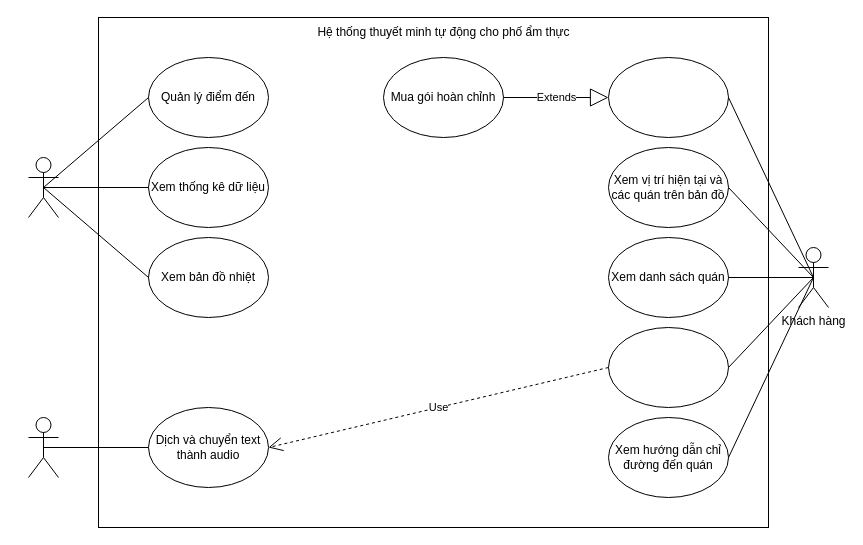
Image size: 863x545. Some labels were removed from this diagram. Each missing label, with the centre of its shape:
Admin: (x=43, y=187)
Gemini AI: (x=43, y=447)
Kích hoạt ứng dụng: (x=668, y=97)
Nghe thuyết trình tự động hoặc thủ công: (x=668, y=367)
